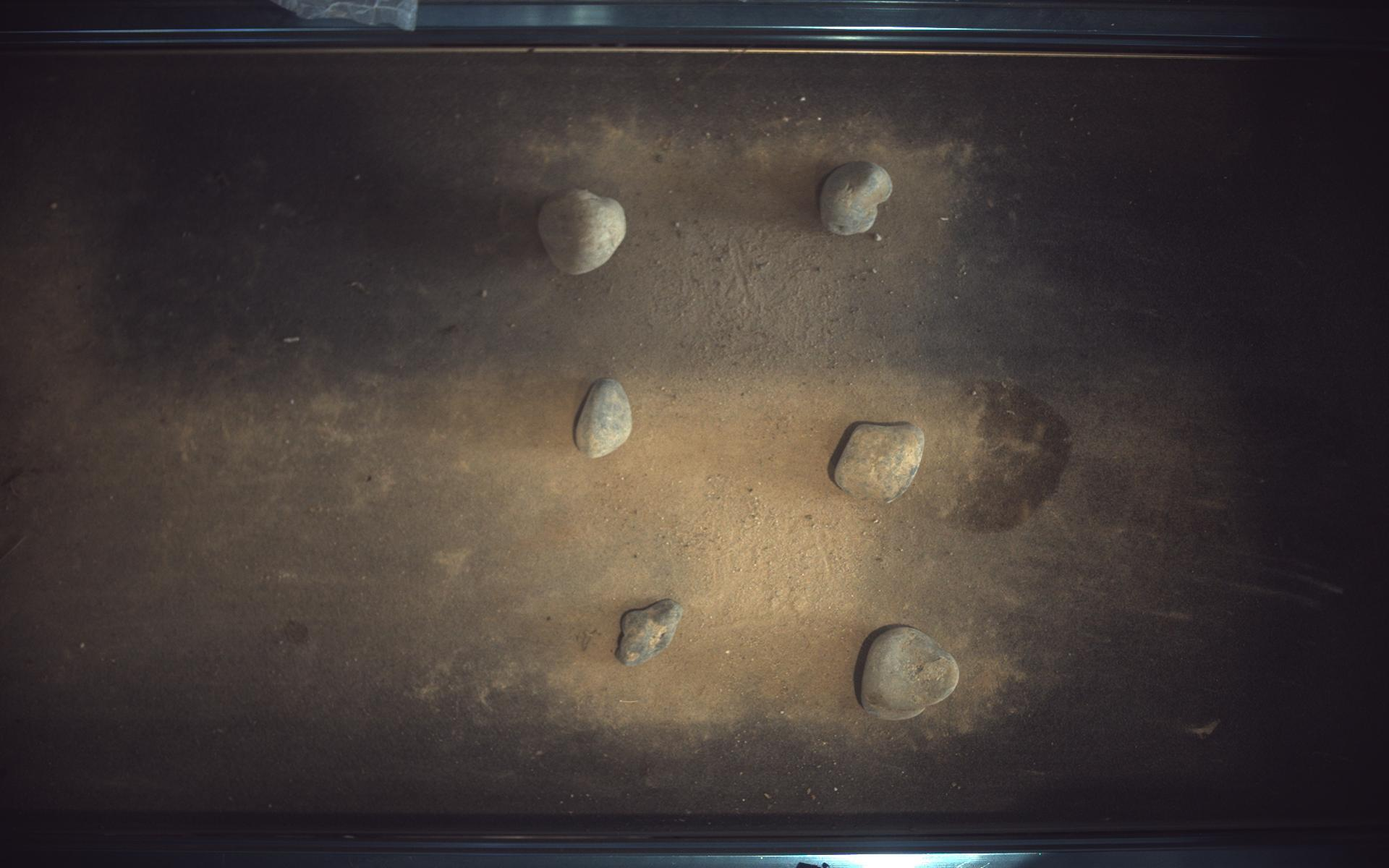stone: (862, 627, 961, 721), (538, 188, 627, 274), (836, 422, 926, 503), (822, 161, 894, 234), (616, 600, 684, 668), (576, 378, 633, 459)
